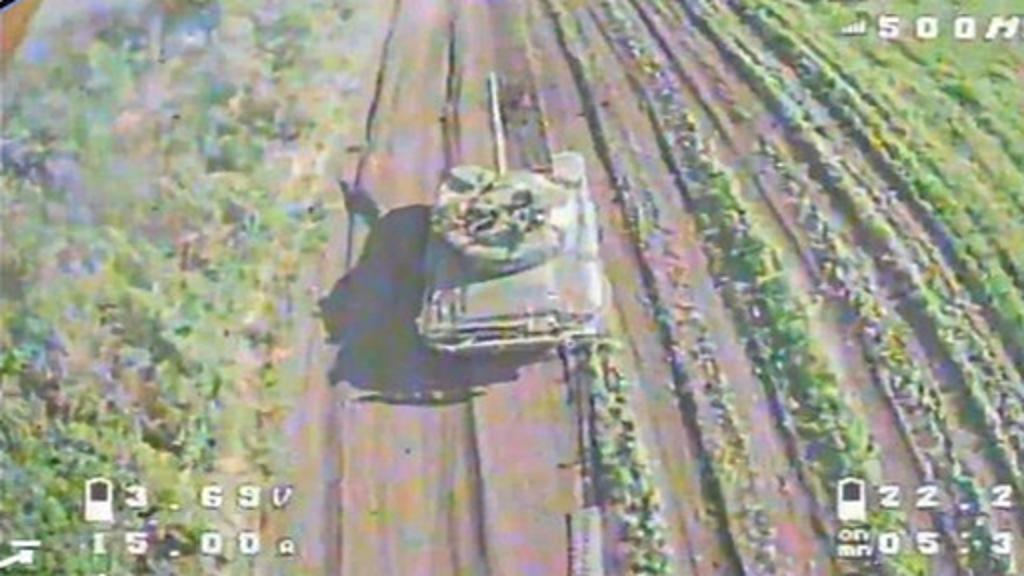TANK: (414, 68, 612, 360)
